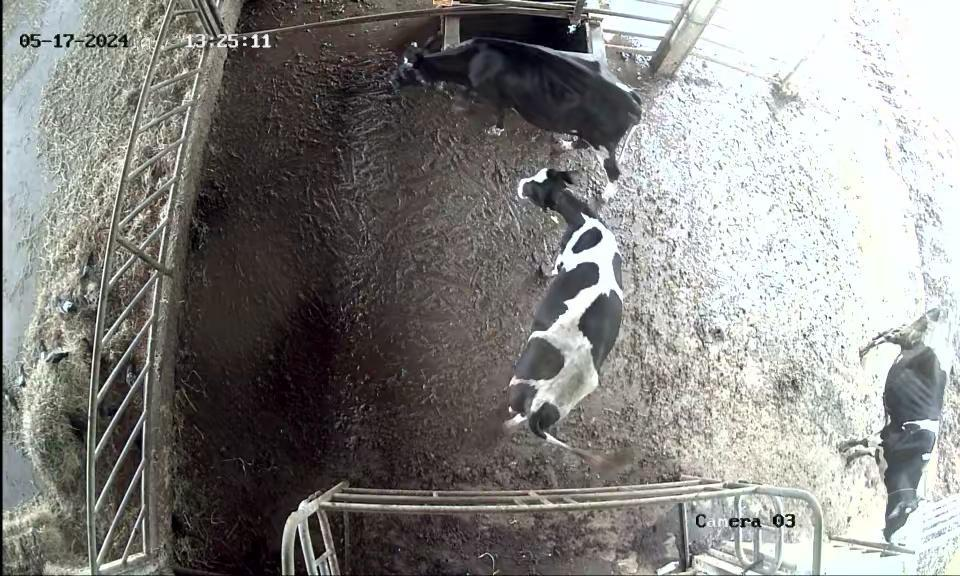stand: (497, 161, 640, 458), (398, 35, 647, 201), (819, 292, 960, 552)
